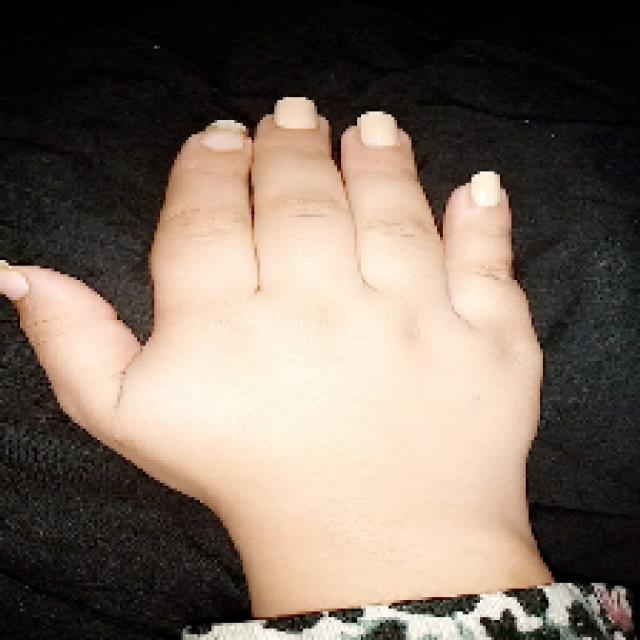Nail: (358, 111, 399, 148), (201, 120, 248, 152), (274, 96, 318, 129), (0, 260, 29, 301), (470, 171, 501, 206)
